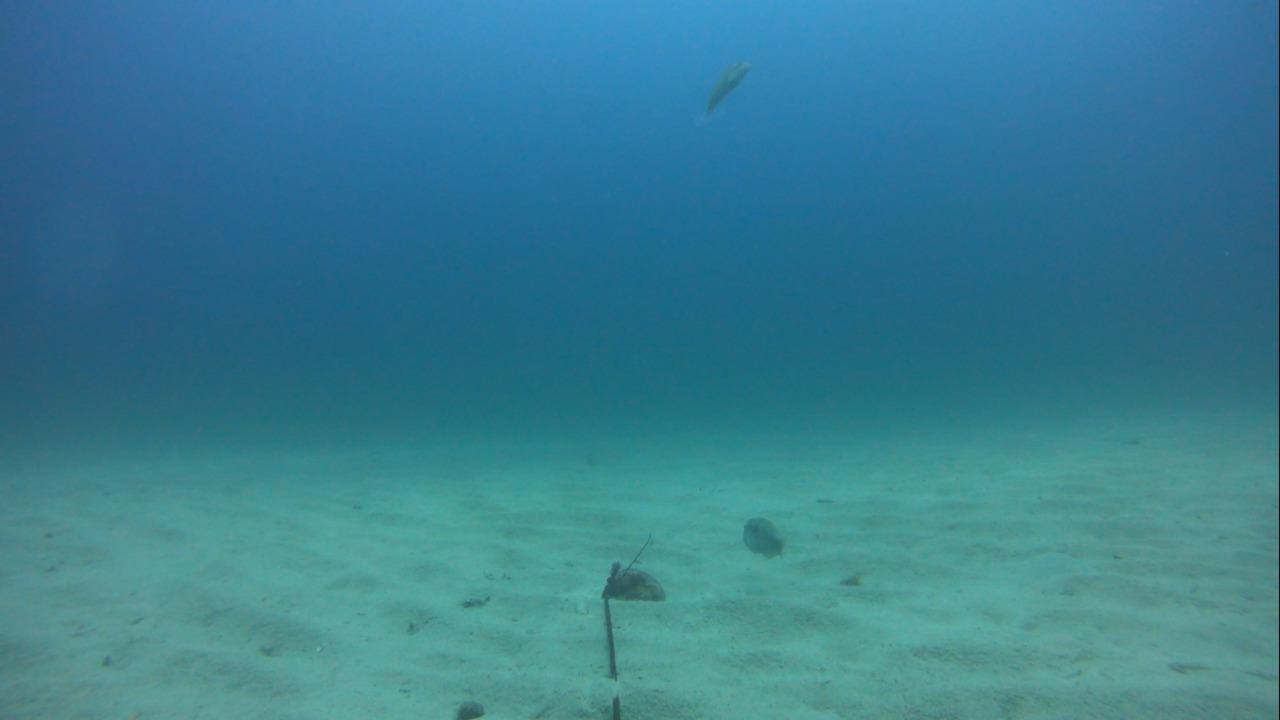raor: (690, 54, 754, 124), (734, 514, 798, 563)
